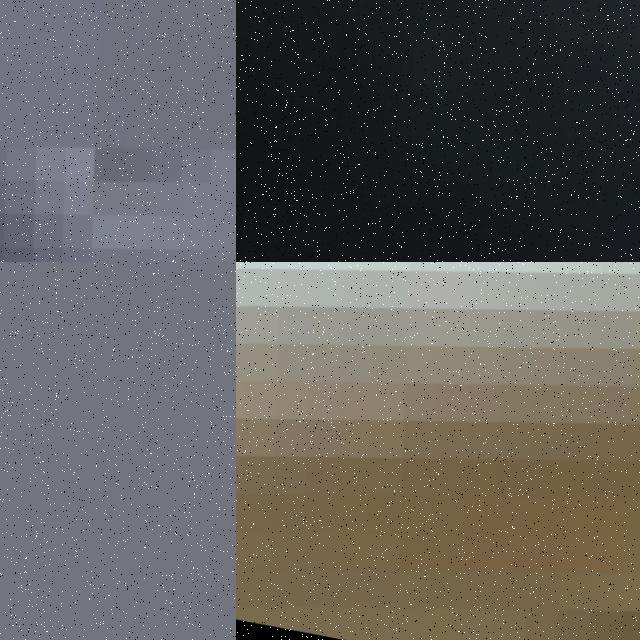drone: (236, 262, 640, 640), (236, 0, 640, 262), (0, 0, 236, 262)
